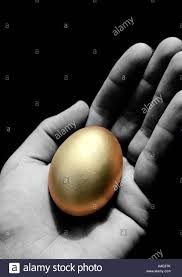egg: (49, 126, 123, 214)
